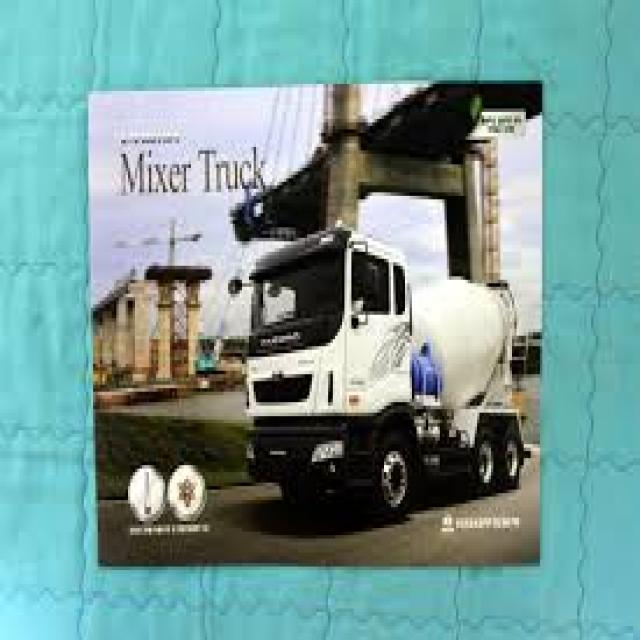Mixer Truck: (227, 220, 534, 529)
